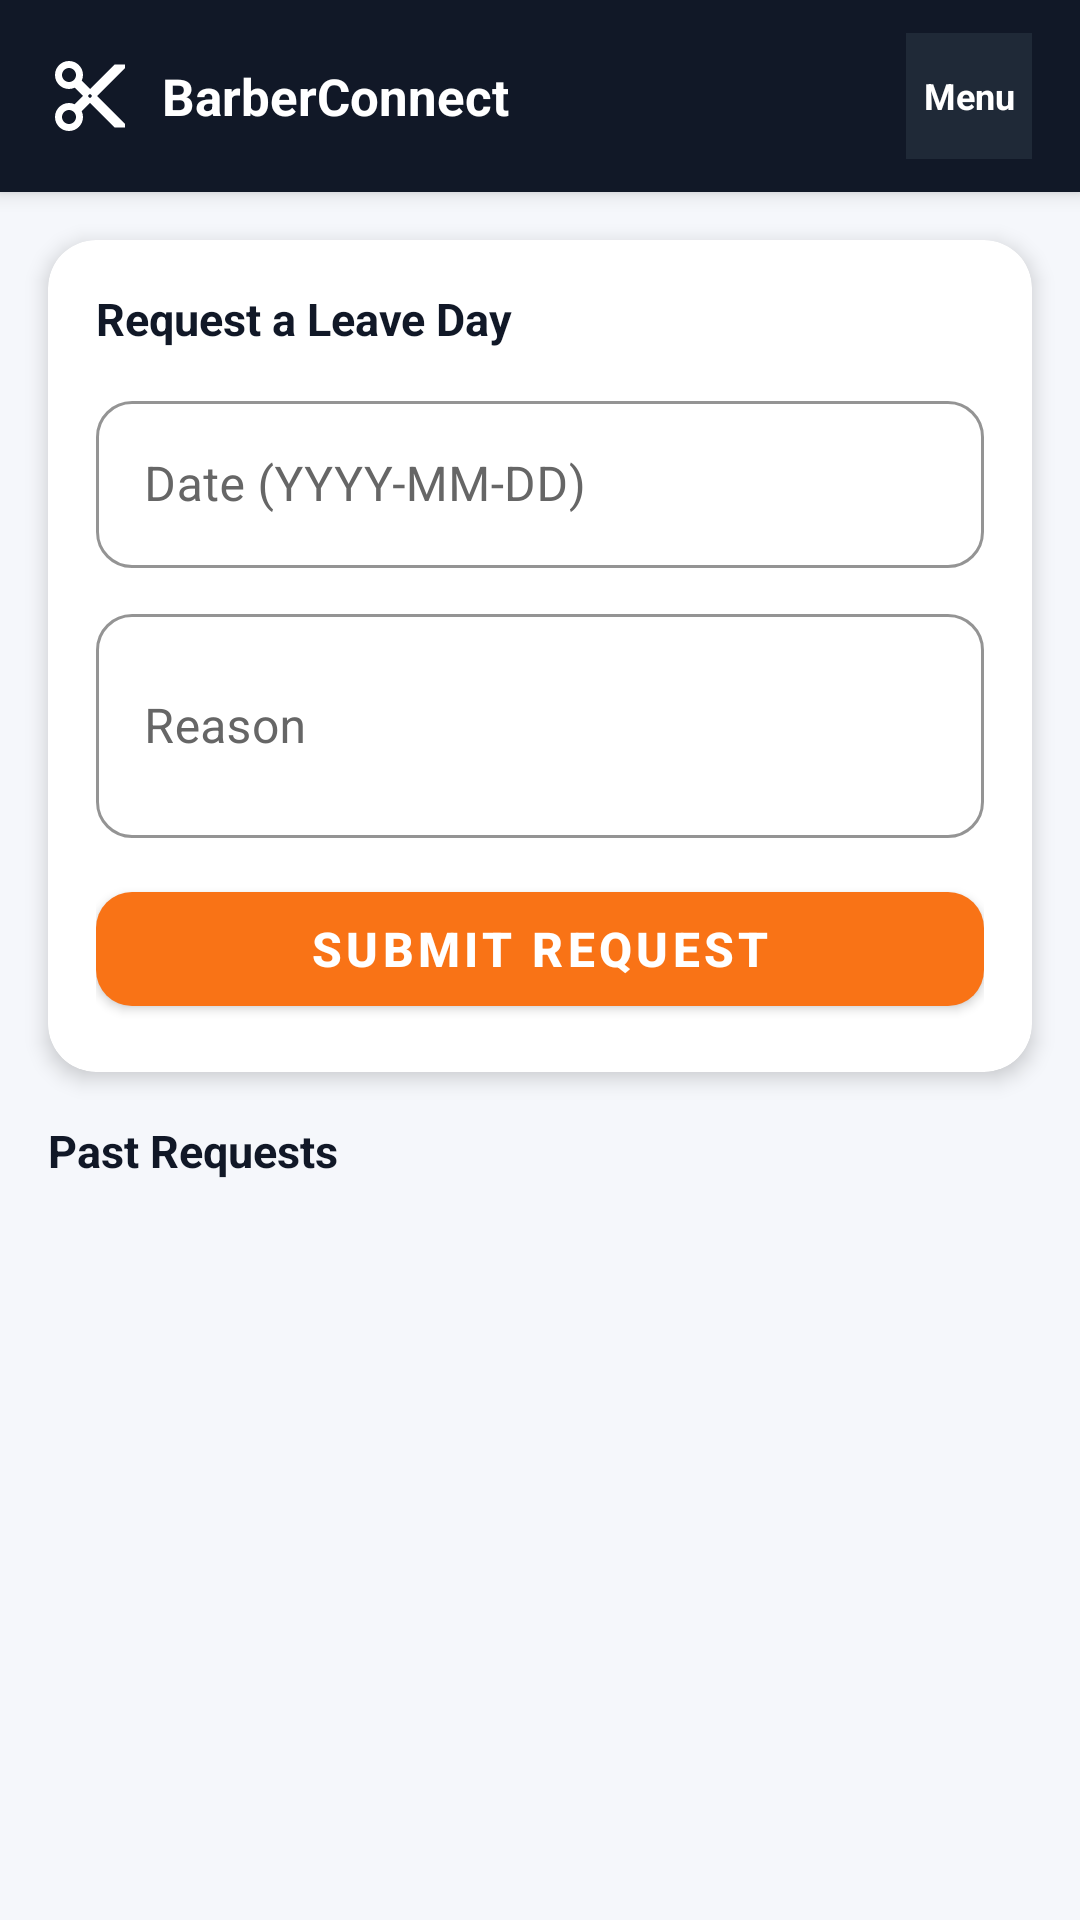

Icons on this 1080px x 1920px Android screen, each with its box as (x1, y1, x2, y2):
scissors: (55, 61, 125, 131)
